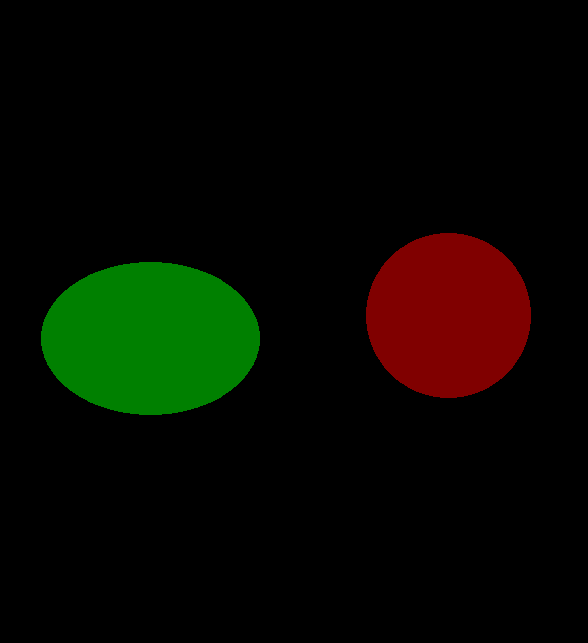rectangle: (45, 45, 230, 186)
